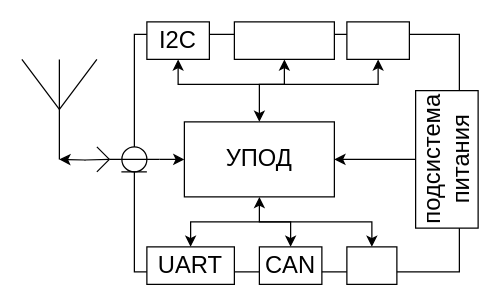
Some shapes in this 500 by 306 pixel diagram are drawn without their labels. Each missing label, with the box of its shape:
ADC: (346, 21, 409, 59)
n GPIO: (233, 21, 334, 59)
SPI: (346, 246, 397, 284)
